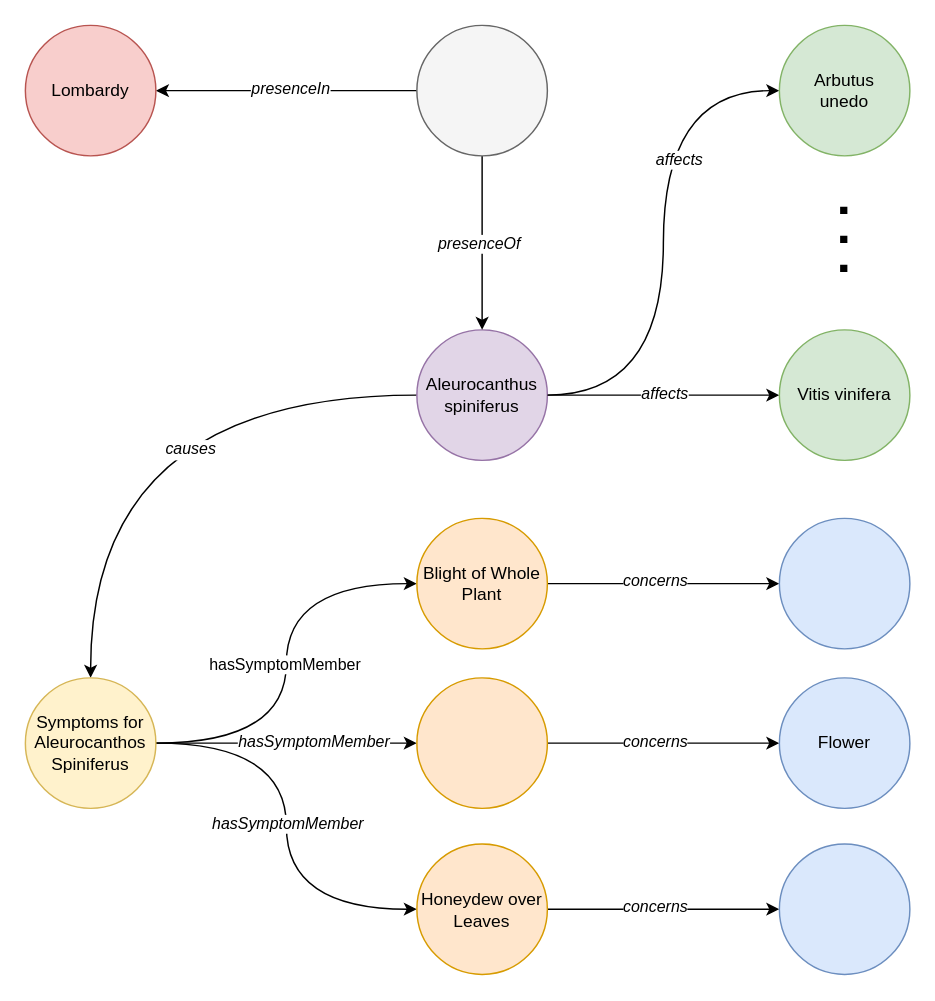
This 935x1001 diagram has some shape labels left out. The centre of each missing label's shape, as x and y in pixels:
Aleurocanthus spiniferus Presence in Lombardy: [481,90]
Honeydew over Flowers: [481,742]
Leaf: [844,908]
Whole Plant: [844,583]
